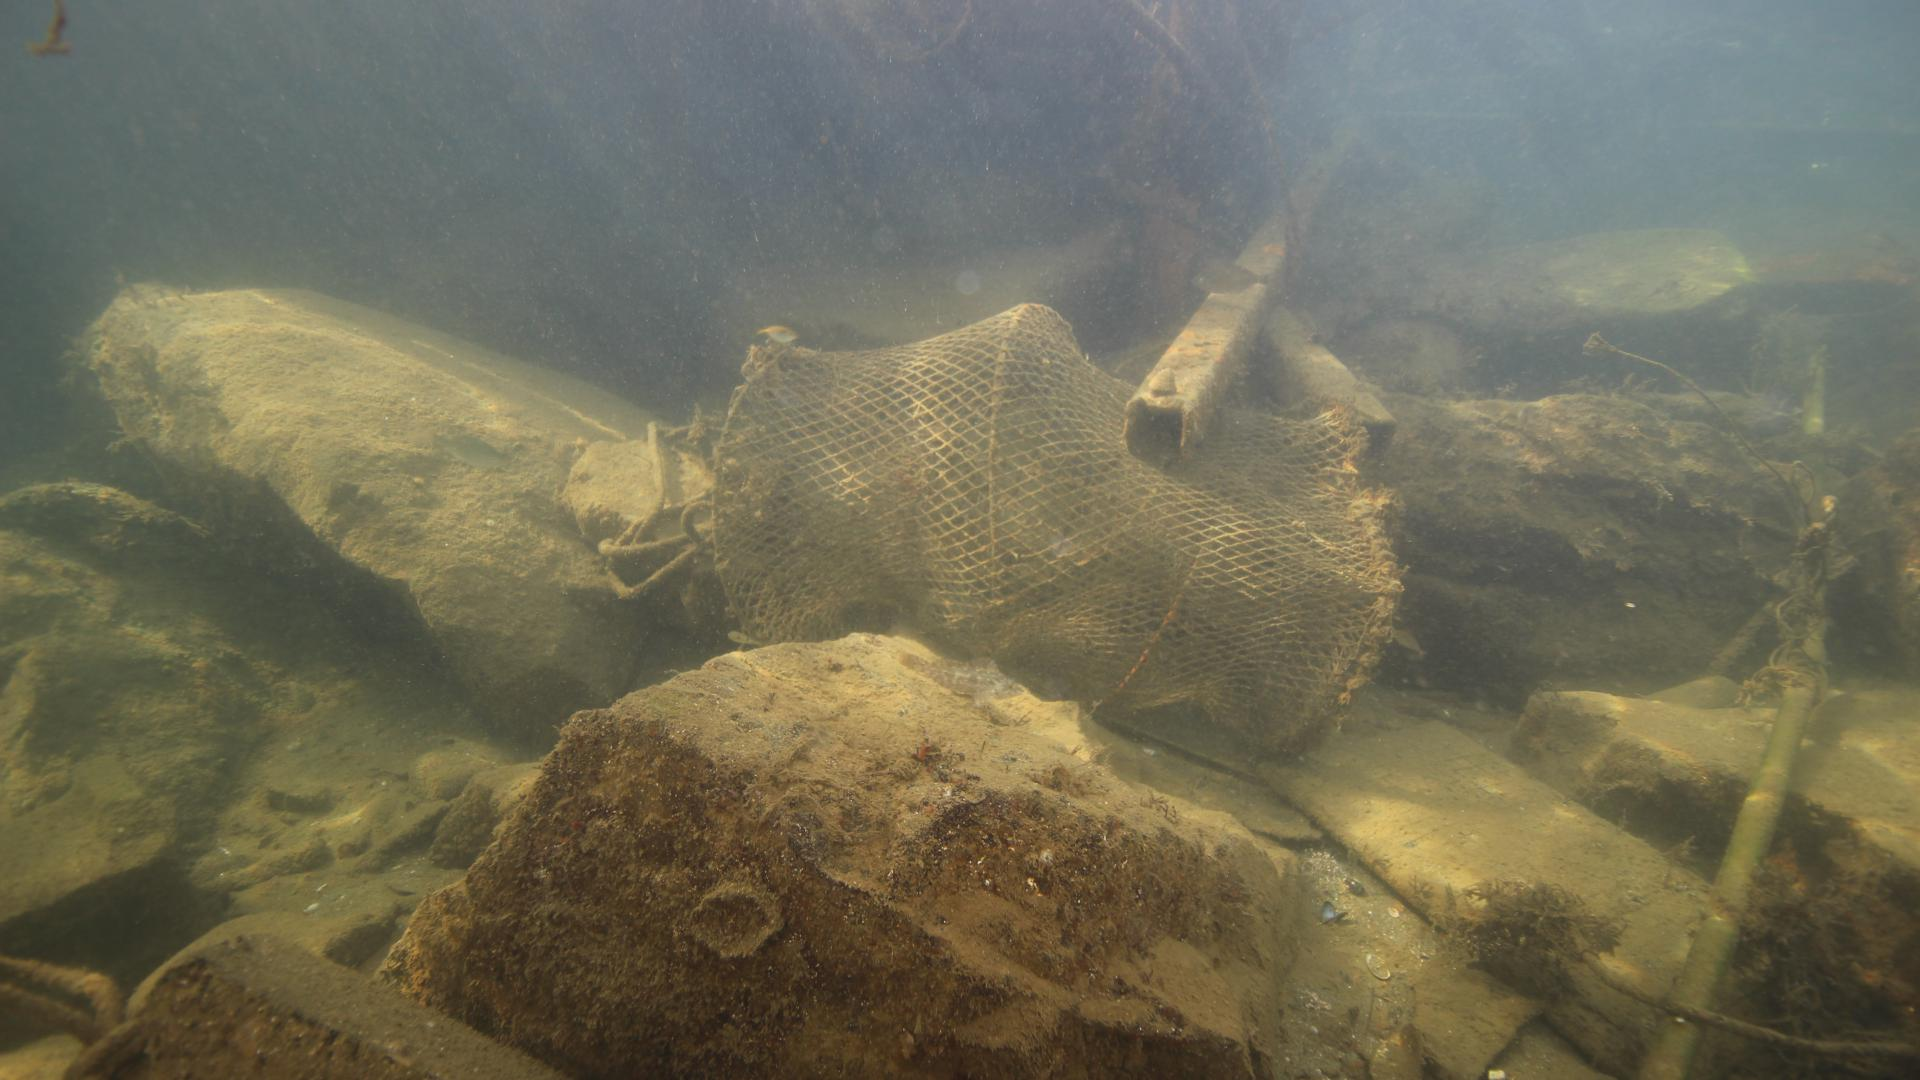spring fish trap: (703, 298, 1415, 765)
